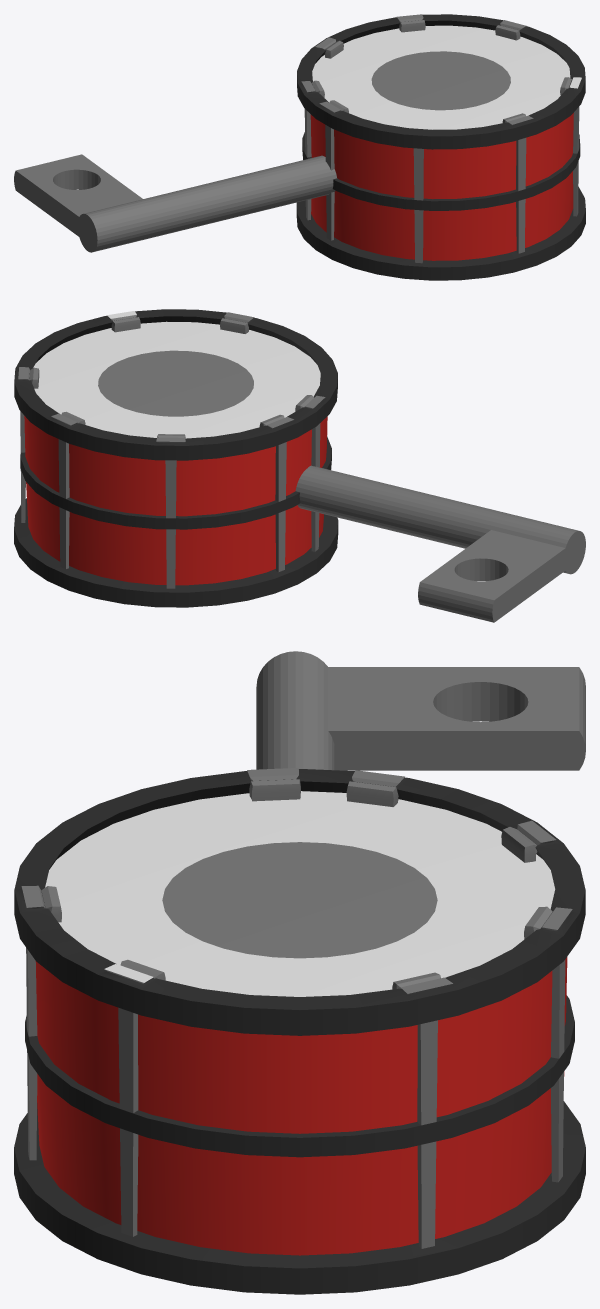
The model's file is DrumKey.fbx.
3 renders of one model, top to bottom at view 1: azimuth 30°, elevation 25°; view 2: azimuth 150°, elevation 25°; view 3: azimuth 270°, elevation 25°, orthographic. The views are drawn at different scales.
Visible parts, largest first — view 1: Circle.001; view 2: Circle.001; view 3: Circle.001.
Boxes of the visible parts, x1,y1,x2,y2 form: Circle.001: [14, 14, 585, 280]; Circle.001: [14, 309, 585, 622]; Circle.001: [14, 651, 585, 1294].
Size of the model in its own units: 420 by 122 by 219.
